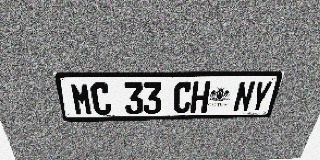3: (124, 82, 143, 115), (143, 82, 162, 114)
C: (90, 82, 112, 115), (173, 82, 193, 113)
H: (190, 81, 211, 113)
M: (69, 83, 94, 116)
N: (232, 81, 256, 112)
Y: (248, 81, 273, 112)
